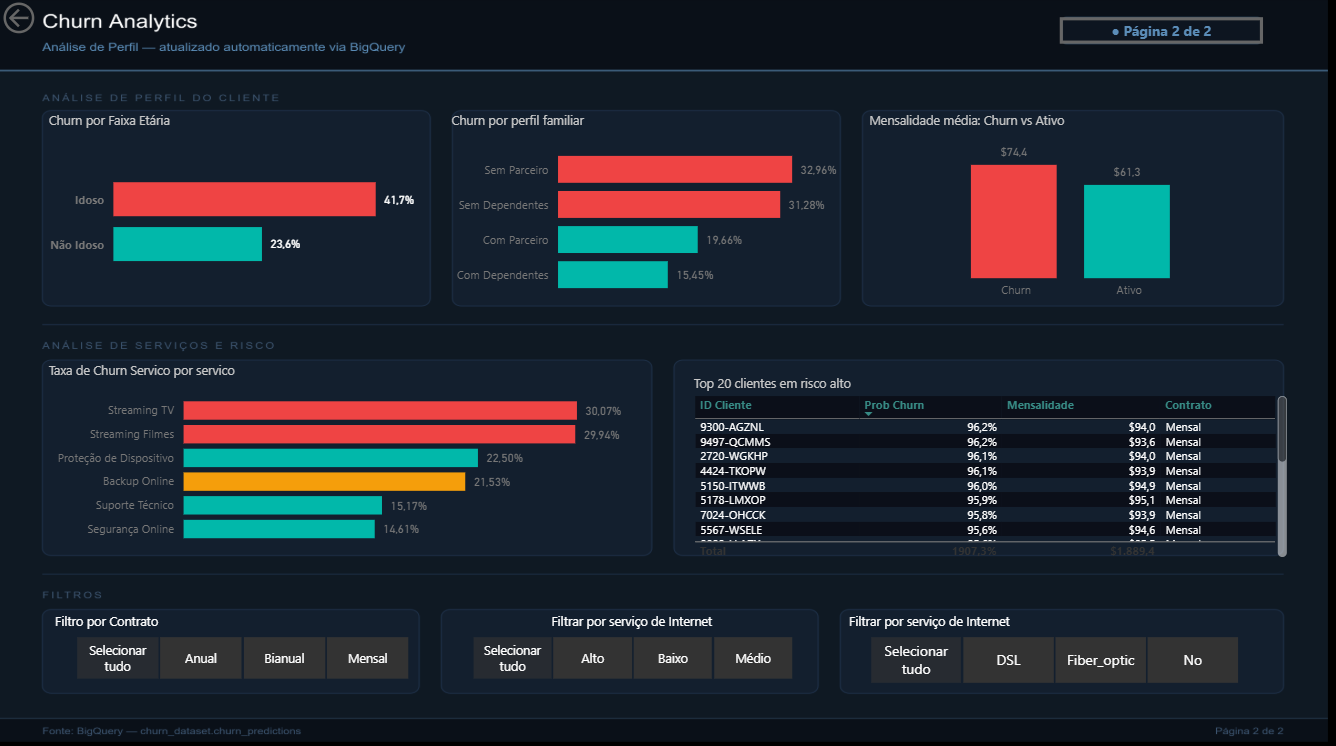

The dashboard page shown, as its layout file describes it:
{"tool":"powerbi","page":{"name":"Página 2","canvas":[1280,720],"ordinal":1},"visuals":[{"type":"actionButton","title":"● Página 1 de 2","box":[1013.4,19.3,194,25.3],"z":0},{"type":"clusteredBarChart","title":"Churn por Faixa Etária","fields":{"Category":["vw_bi_predictions.faixa_etaria"],"Y":["Medidas.Taxa de Churn"]},"box":[43.4,109.7,372.4,188],"z":1000},{"type":"columnChart","title":"Mensalidade média: Churn vs Ativo","fields":{"Category":["vw_bi_predictions.status_churn"],"Y":["Avg(churn_predictions.MonthlyCharges)"]},"box":[826.6,109.7,398.9,188],"z":2000},{"type":"clusteredBarChart","title":"Churn por perfil familiar","fields":{"Category":["vw_bi_perfil_familiar.categoria"],"Y":["vw_bi_servicos.Taxa de Churn Familiar"]},"box":[427.8,109.7,383.2,188],"z":3000},{"type":"clusteredBarChart","fields":{"Category":["vw_bi_servicos_unpivot.servico"],"Y":["Medidas.Taxa de Churn Servico"]},"box":[43.4,348.3,576,183.2],"z":4000},{"type":"tableEx","title":"Top 20 clientes em risco alto","fields":{"Values":["vw_bi_predictions.customerID","Sum(vw_bi_predictions.probabilidade_churn)","Sum(churn_predictions.MonthlyCharges)","vw_bi_predictions.contrato"]},"box":[659.1,360.3,576,179],"z":5000},{"type":"actionButton","box":[0,0,100,40],"z":6000},{"type":"slicer","title":"Filtro por Contrato","fields":{"Values":["vw_bi_predictions.contrato"]},"box":[49.4,588.1,366.3,69.9],"z":7000},{"type":"slicer","title":"Filtrar por serviço de Internet","fields":{"Values":["churn_predictions.InternetService"]},"box":[807.4,588.1,400.1,73.5],"z":8000},{"type":"slicer","title":"Filtrar por serviço de Internet","fields":{"Values":["churn_predictions.risco"]},"box":[427.8,588.1,354.3,69.9],"z":9000}]}

Visuals, with their boxes in screenshot pixels (x1, y1, x2, y2), scaled from the page's 1280x720 canvas onto the 1336x746 screenshot:
"● Página 1 de 2" actionButton: (x1=1058, y1=20, x2=1260, y2=46)
"Churn por Faixa Etária" clusteredBarChart: (x1=45, y1=114, x2=434, y2=308)
"Mensalidade média: Churn vs Ativo" columnChart: (x1=863, y1=114, x2=1279, y2=308)
"Churn por perfil familiar" clusteredBarChart: (x1=447, y1=114, x2=846, y2=308)
clusteredBarChart - vw_bi_servicos_unpivot.servico x Medidas.Taxa de Churn Servico: (x1=45, y1=361, x2=646, y2=551)
"Top 20 clientes em risco alto" tableEx: (x1=688, y1=373, x2=1289, y2=559)
actionButton: (x1=0, y1=0, x2=104, y2=41)
"Filtro por Contrato" slicer: (x1=52, y1=609, x2=434, y2=682)
"Filtrar por serviço de Internet" slicer: (x1=843, y1=609, x2=1260, y2=685)
"Filtrar por serviço de Internet" slicer: (x1=447, y1=609, x2=816, y2=682)
